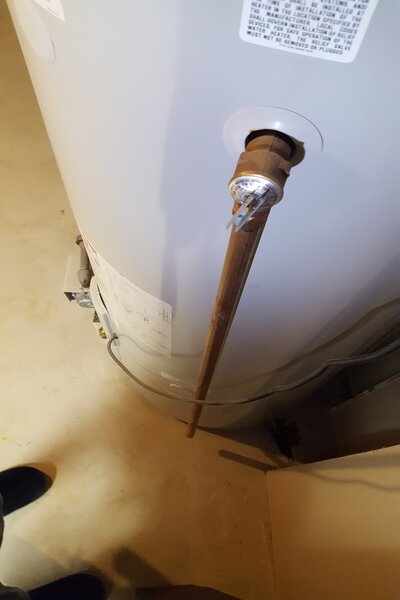valve: (228, 130, 296, 236)
